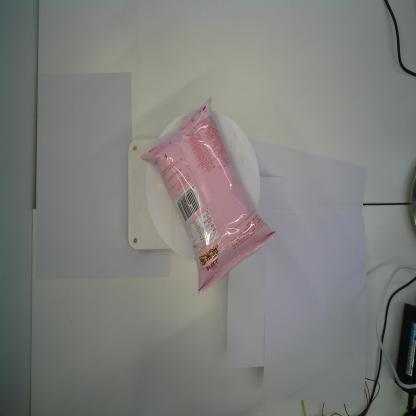Puffed Food: (139, 96, 278, 296)
